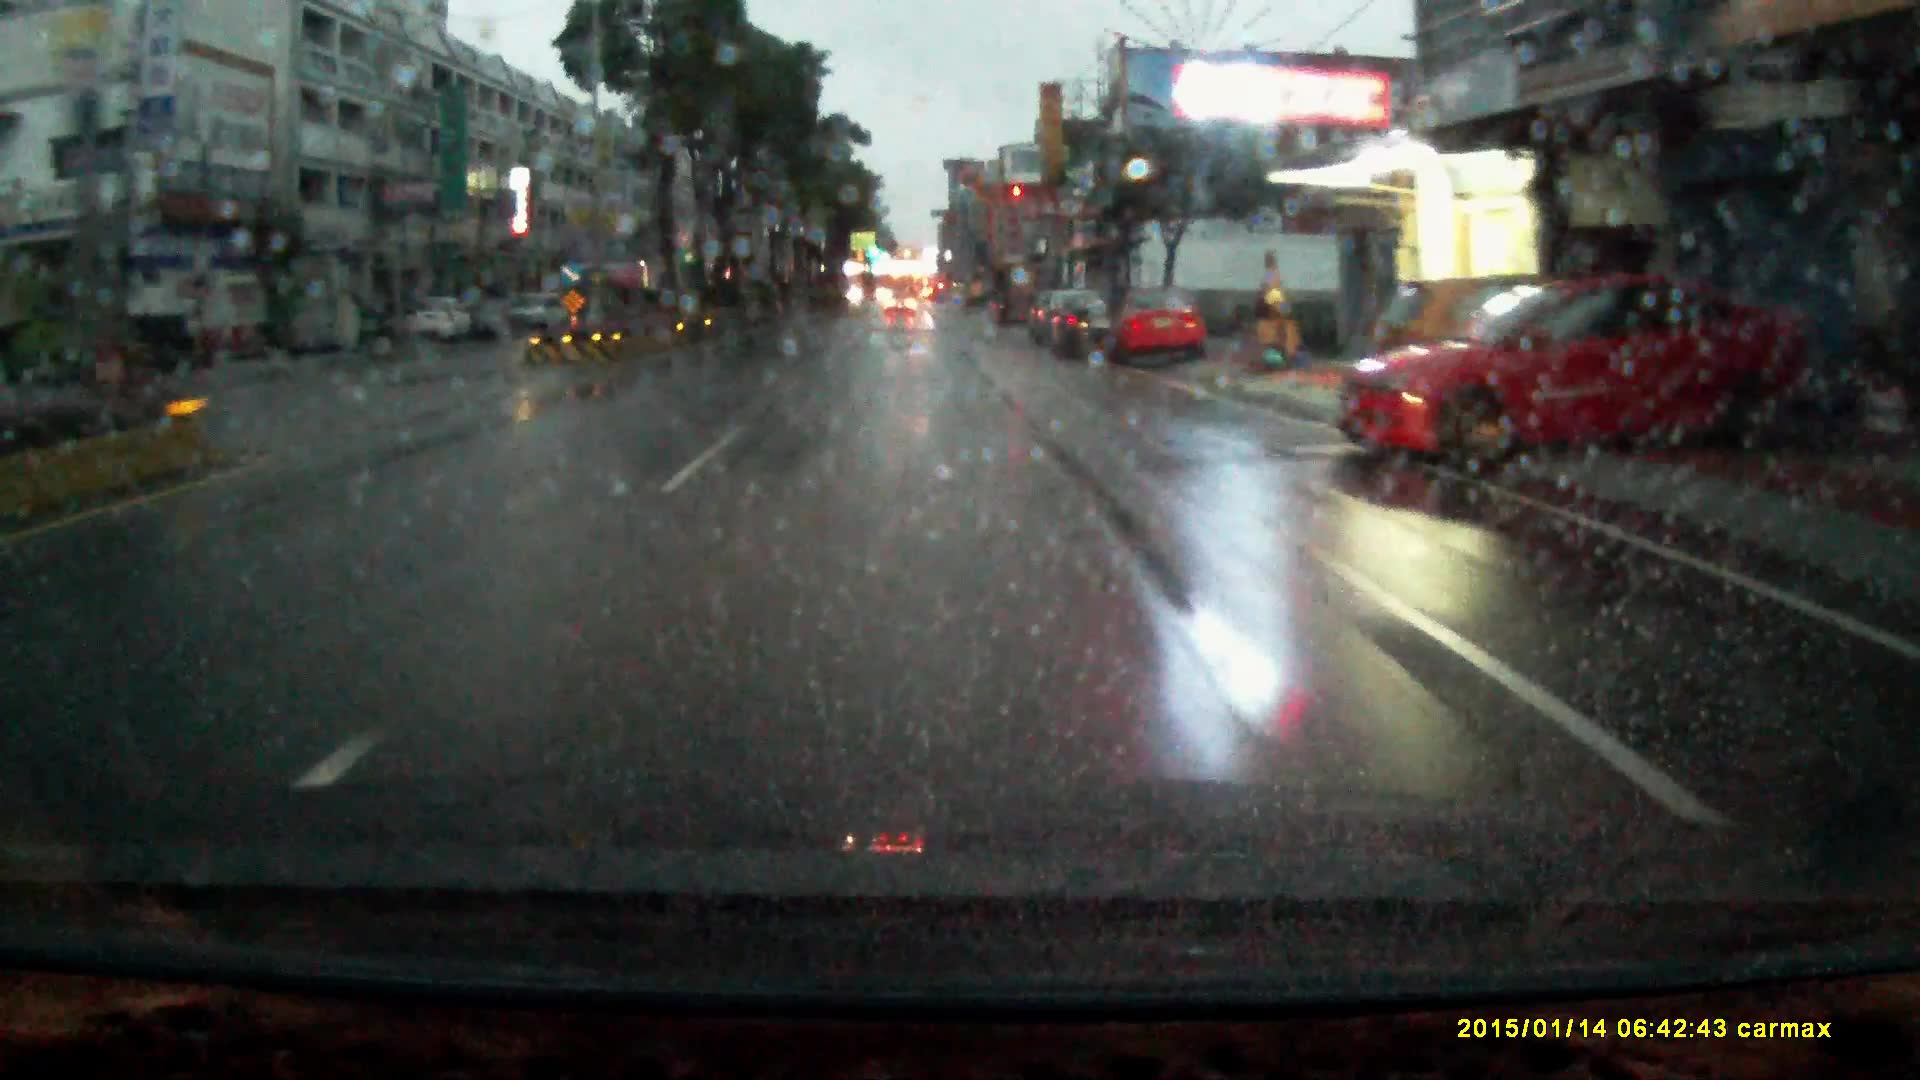vehicle: (1336, 272, 1797, 469), (1106, 286, 1211, 369), (1048, 287, 1120, 361), (411, 294, 475, 347), (512, 294, 575, 338), (1029, 290, 1055, 342), (885, 294, 918, 320)
